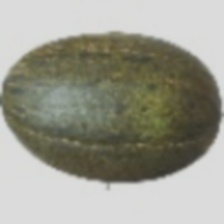honeydew: (43, 35, 215, 184)
